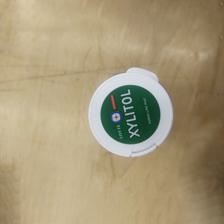Xylitol_green: (86, 66, 178, 161)
